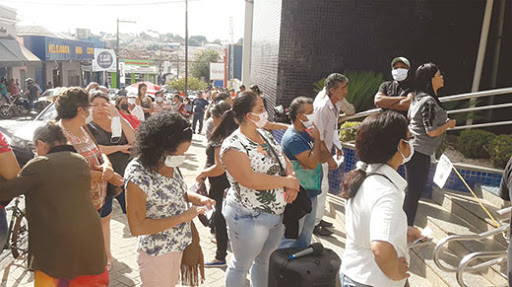with_mask: (239, 103, 269, 129), (294, 104, 319, 130), (391, 60, 408, 83)
